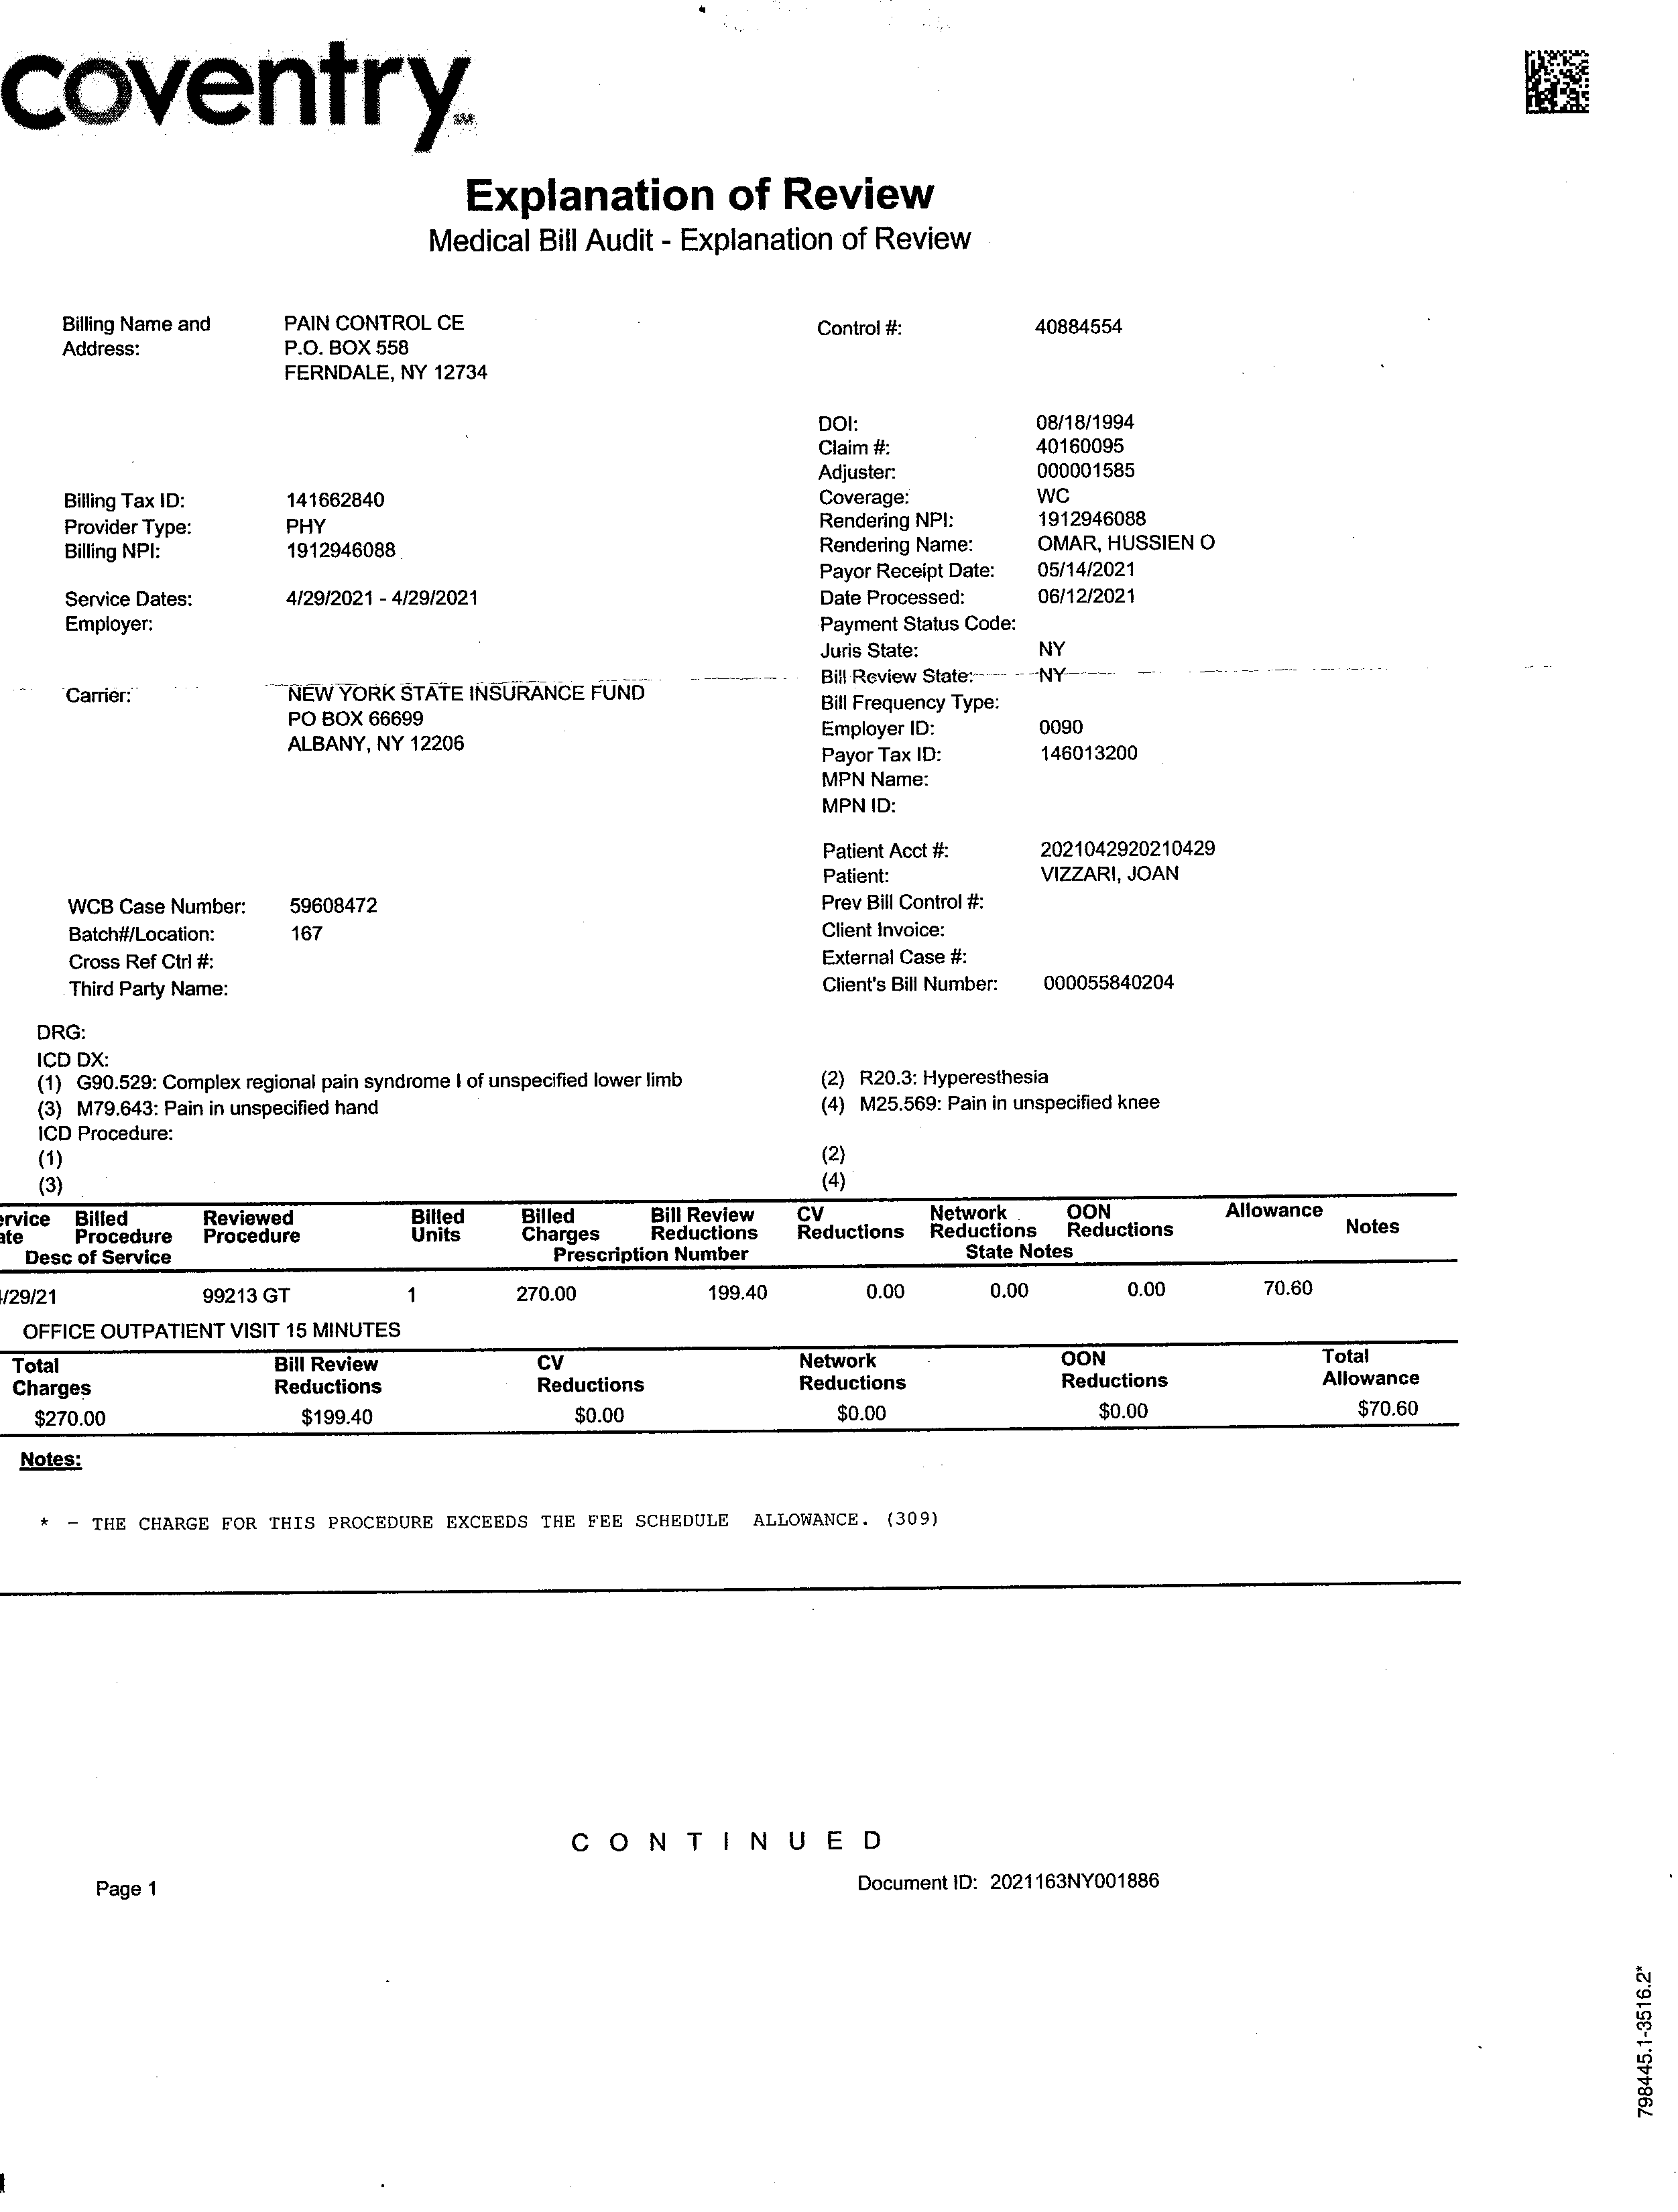data: (802, 393, 1225, 1026), (28, 465, 509, 645), (46, 666, 684, 772), (41, 300, 502, 400), (51, 878, 400, 999), (797, 293, 1132, 347)
table: (9, 1190, 1468, 1435)
